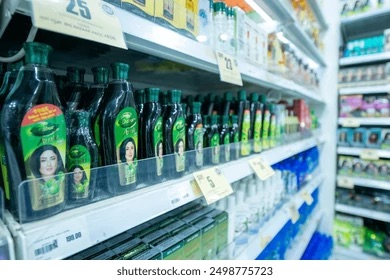other: (77, 187, 147, 245), (110, 188, 161, 216), (237, 61, 284, 88), (187, 44, 217, 71), (125, 24, 149, 47), (281, 80, 313, 97), (224, 164, 243, 183), (285, 23, 303, 40), (127, 16, 151, 28), (279, 143, 298, 157), (158, 41, 174, 57), (270, 150, 277, 163), (76, 216, 84, 223)
